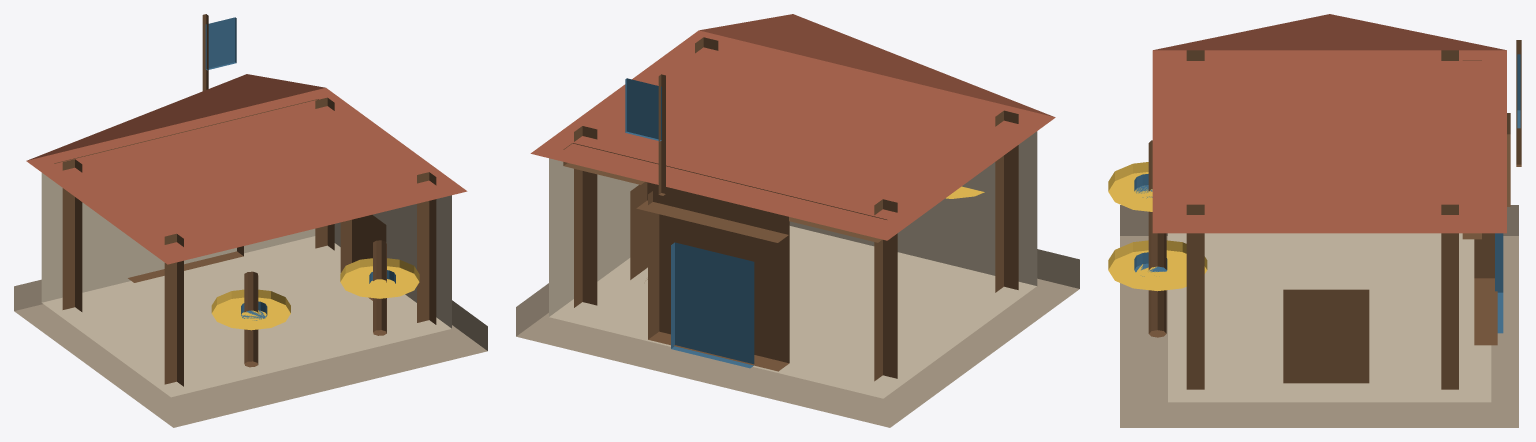
File: ArcheryRange_authoring.glb
3 renders of one model, left to right at view 1: azimuth 30°, elevation 25°; view 2: azimuth 150°, elevation 25°; view 3: azimuth 270°, elevation 25°, orthographic. The views are drawn at different scales.
Visible parts, largest first — view 1: ArcheryRange_authoring; view 2: ArcheryRange_authoring; view 3: ArcheryRange_authoring.
Part boxes in pixels (box(x1,y1,x2,y2)): ArcheryRange_authoring: box(14, 14, 487, 427); ArcheryRange_authoring: box(516, 14, 1079, 427); ArcheryRange_authoring: box(1108, 14, 1521, 427).
Bounding box in the file's own units: 6.6 × 5.1 × 6.01.
